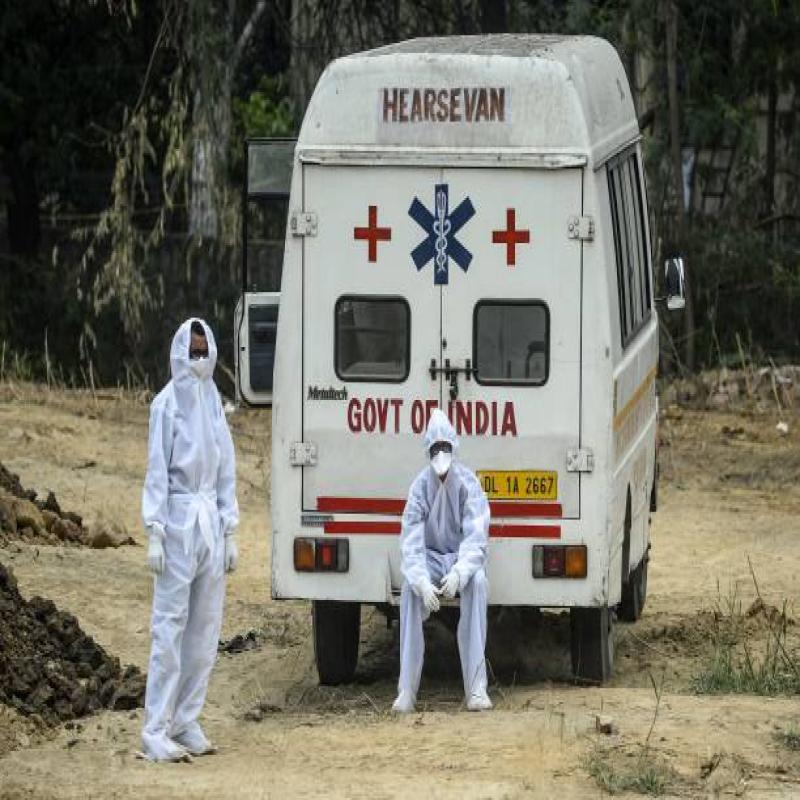ambulance: (204, 25, 670, 673)
